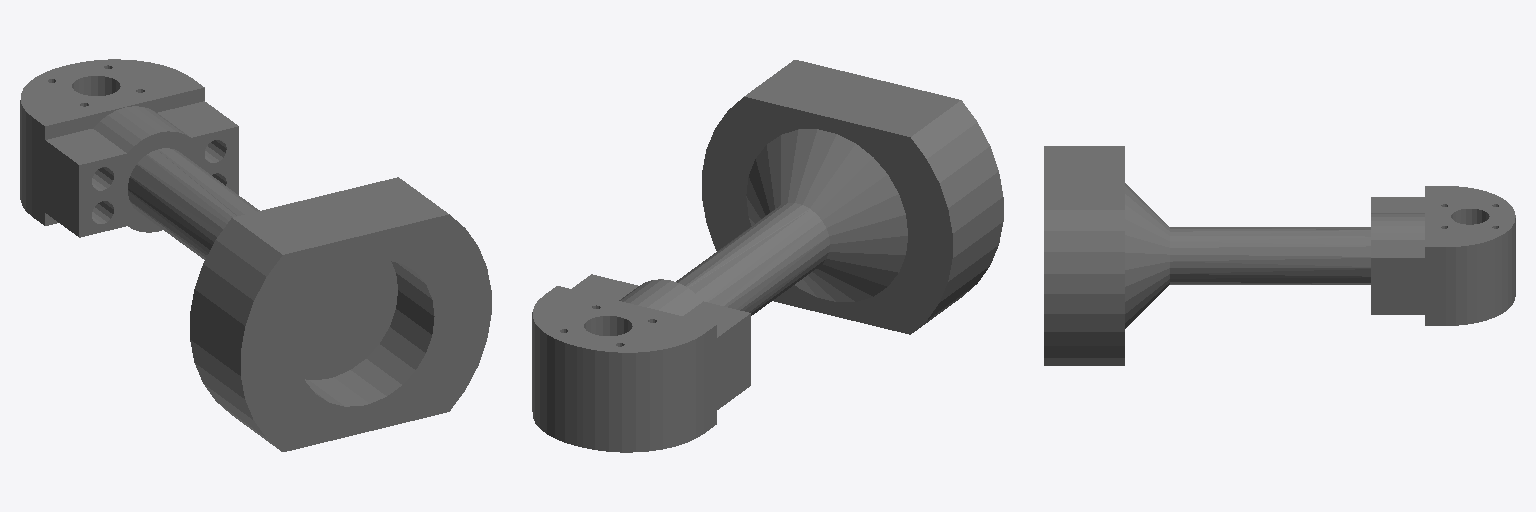
URDF robot description (Link4^Full Arm Assembly_w_wrist):
<robot
  name="Link4^Full Arm Assembly_w_wrist">
  <link
    name="L4">
    <inertial>
      <origin
        xyz="-8.56426041195846E-13 -0.0504972297796323 2.94087050250469E-05"
        rpy="0 0 0" />
      <mass
        value="0.0552051590373072" />
      <inertia
        ixx="5.49820861650814E-05"
        ixy="-4.41696976221599E-16"
        ixz="-1.38765172583936E-18"
        iyy="2.5085873536659E-10"
        iyz="-7.96928262758233E-08"
        izz="5.4981835306346E-05" />
    </inertial>
    <visual>
      <origin
        xyz="0 0 0"
        rpy="0 0 0" />
      <geometry>
        <mesh
          filename="package://Link4^Full Arm Assembly_w_wrist/meshes/L4.STL" />
      </geometry>
      <material
        name="">
        <color
          rgba="0.501960784313725 0.501960784313725 0.501960784313725 1" />
      </material>
    </visual>
    <collision>
      <origin
        xyz="0 0 0"
        rpy="0 0 0" />
      <geometry>
        <mesh
          filename="package://Link4^Full Arm Assembly_w_wrist/meshes/L4.STL" />
      </geometry>
    </collision>
  </link>
</robot>

--- What the picture shows (computed from the rendered views, not written in the file) ---
3 views of the same robot in one strip: view 1: azimuth 30°, elevation 25°; view 2: azimuth 150°, elevation 25°; view 3: azimuth 270°, elevation 25° (orthographic).
Model Link4^Full Arm Assembly_w_wrist with 1 links and 0 joints (none), rooted at L4, posed all joints at 0.
Links seen in each view (by area): view 1: L4; view 2: L4; view 3: L4.
Link boxes in pixels (x1,y1,x2,y2): L4: (20, 59, 491, 451); L4: (532, 60, 1003, 452); L4: (1044, 146, 1515, 365).
Size in the robot's own frame: 0.0506 by 0.1043 by 0.0381 metres.
Meshes: 1 distinct files referenced, 1 mesh visuals loaded (1 binary STL).